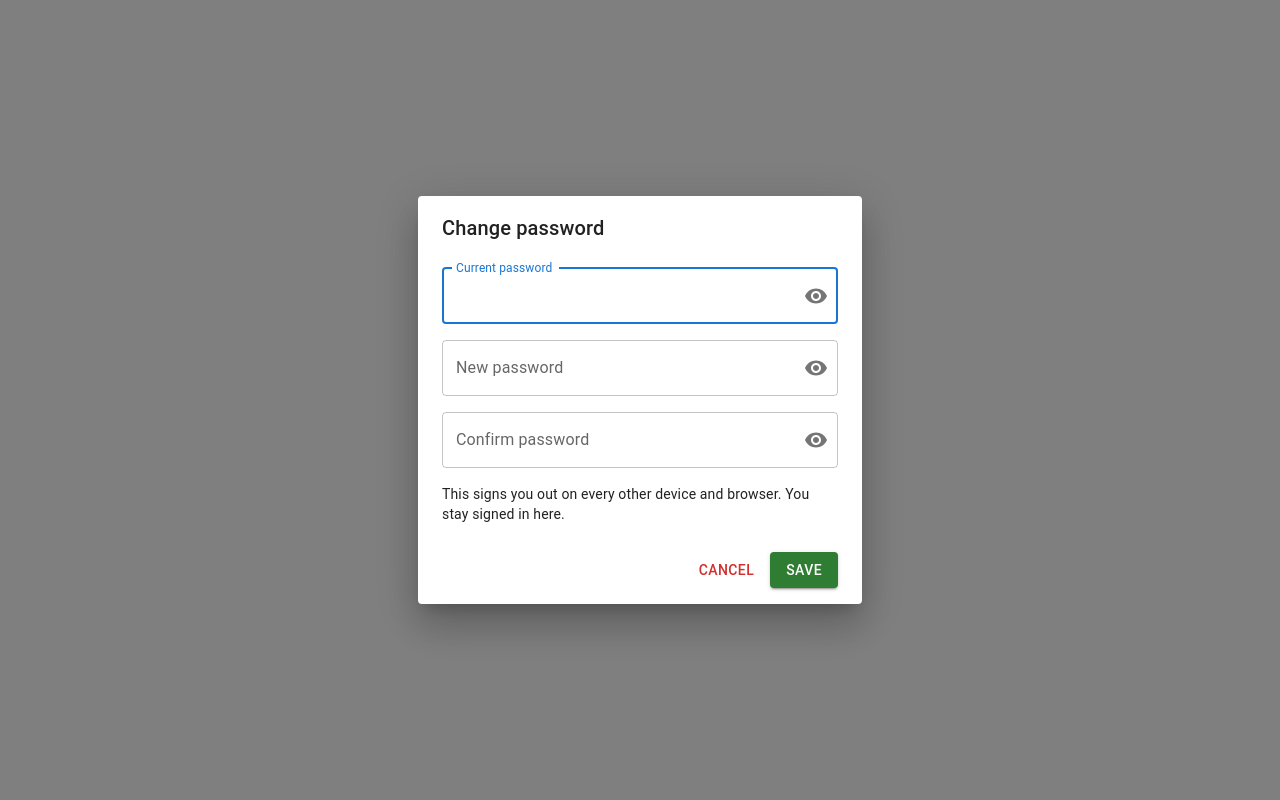
Test case: ChangePasswordDialog › asks for the current password, sending nothing
This screenshot has width=1280, height=800.
Type "new secret 1" into the password field labelled "New password".
click(615, 368); type("new secret 1")  # box [442,340,788,396]
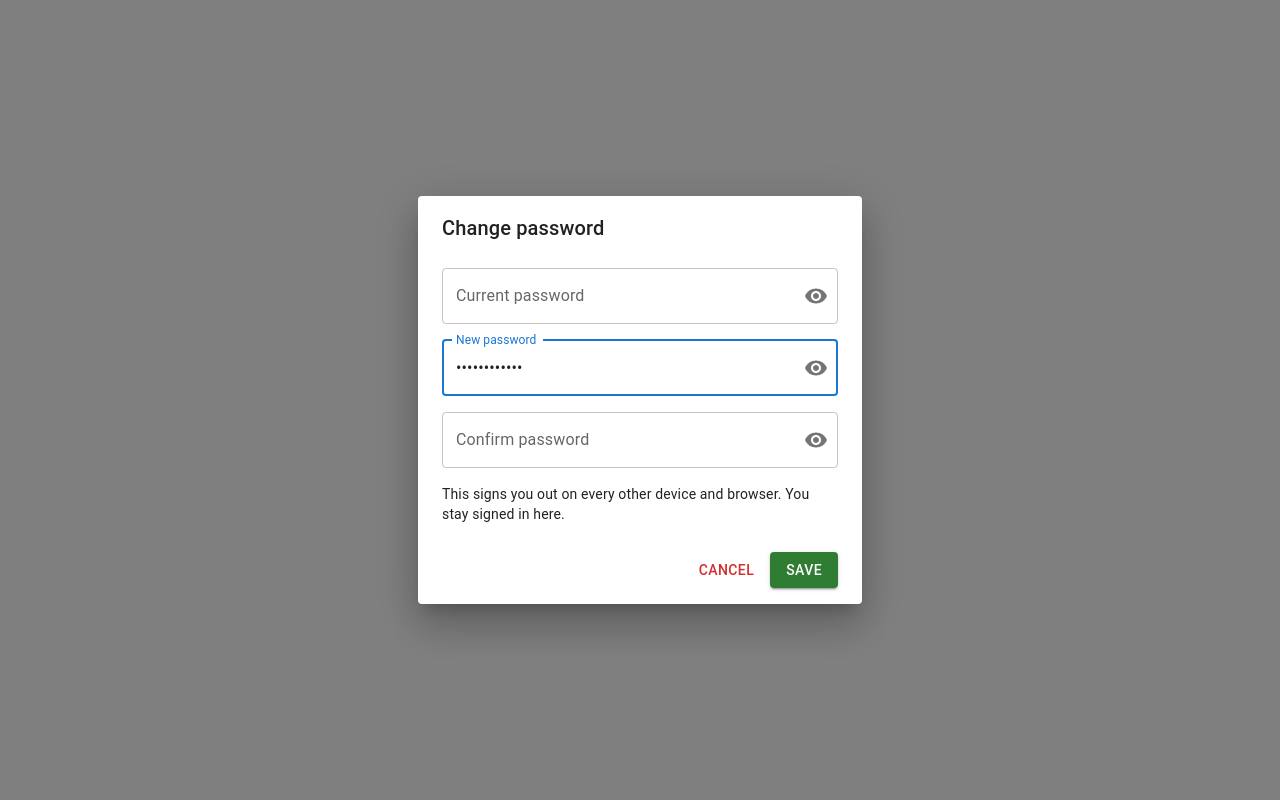
Type "new secret 1" into the password field labelled "Confirm password".
click(615, 440); type("new secret 1")  # box [442,412,788,468]
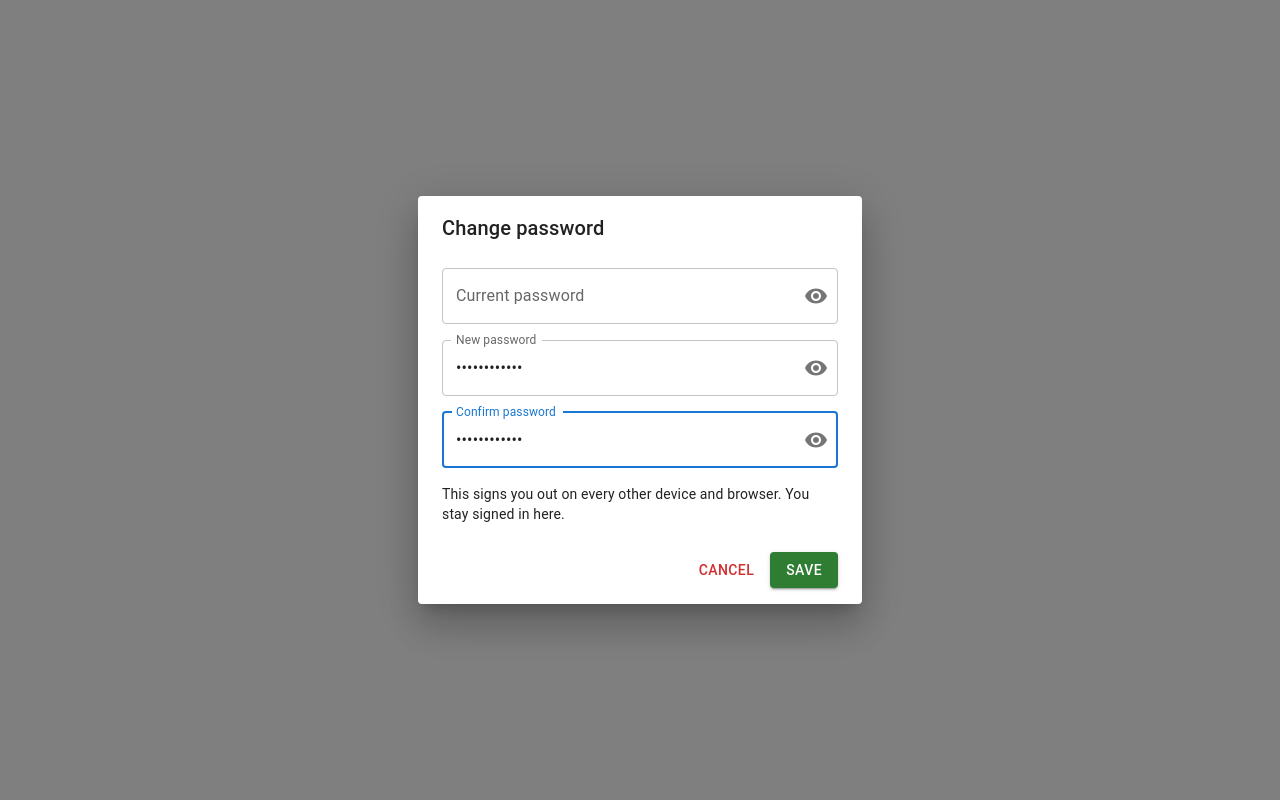
Click the button "Save".
click(804, 570)  # box [770,552,838,588]
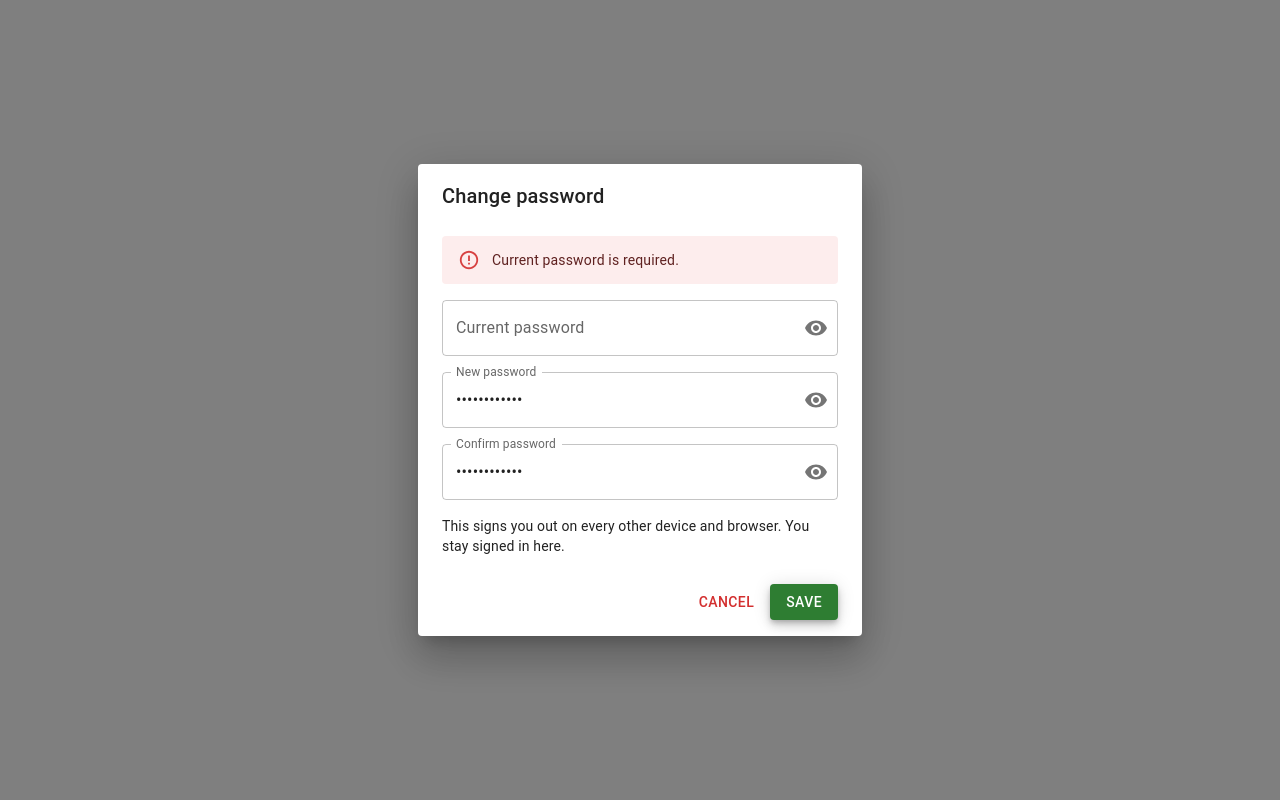
Expected: the message reads "Current password is required.", [492,252,679,268]
